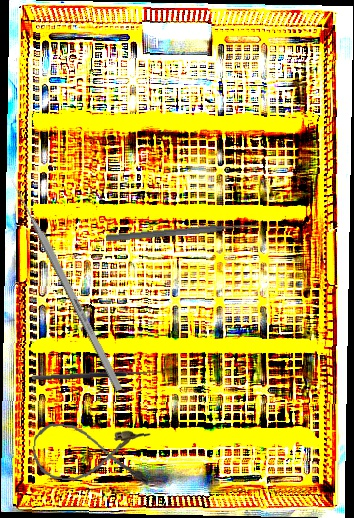Cannula: (30, 422, 153, 487)
Hook Surgical: (31, 362, 167, 382)
Pusher: (8, 177, 124, 392), (105, 220, 258, 244)
